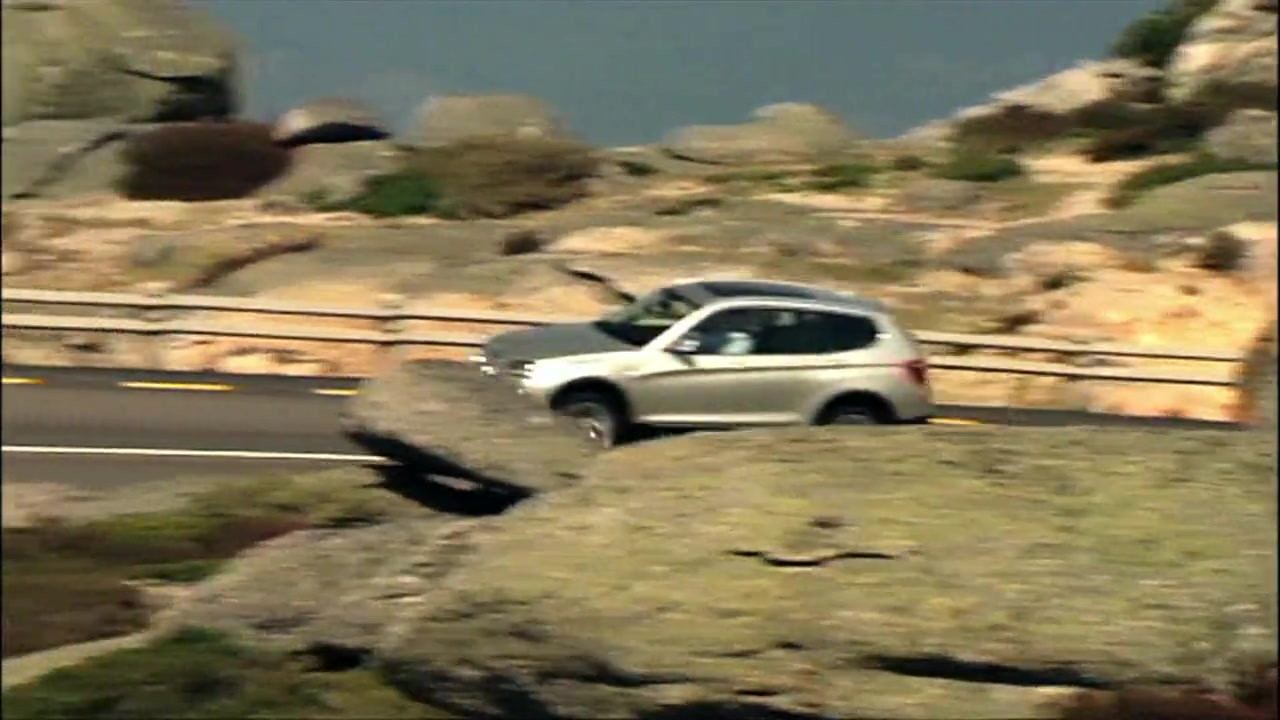car: (478, 278, 939, 452)
